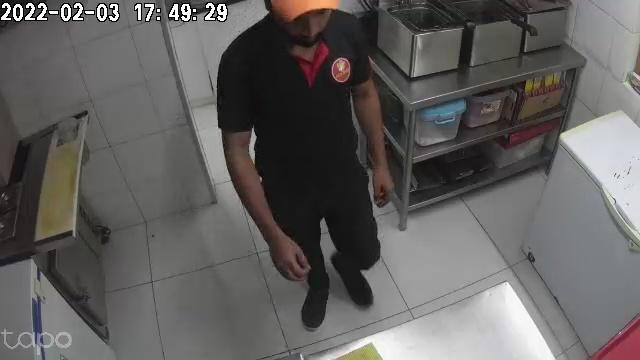no_gloves: (261, 222, 308, 281), (372, 161, 393, 207)
